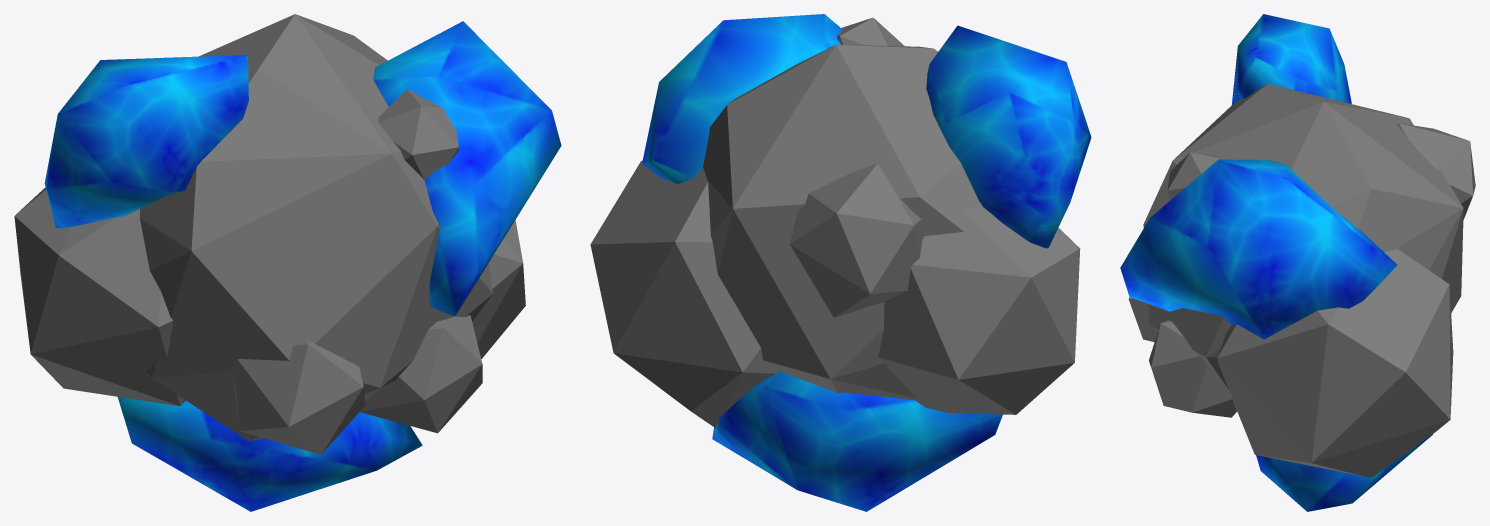
The model's file is windstoneSemioreLP.fbx.
3 renders of one model, left to right at view 1: azimuth 30°, elevation 25°; view 2: azimuth 150°, elevation 25°; view 3: azimuth 270°, elevation 25°, orthographic. The views are drawn at different scales.
Parts seen in each view (by area): view 1: StoneOre.014, WindstoneParticle.029; view 2: StoneOre.014, WindstoneParticle.029; view 3: StoneOre.014, WindstoneParticle.029.
Part boxes in pixels (x1=…): StoneOre.014: x1=14, y1=14, x2=525, y2=454; WindstoneParticle.029: x1=44, y1=21, x2=561, y2=511; StoneOre.014: x1=590, y1=17, x2=1080, y2=428; WindstoneParticle.029: x1=642, y1=14, x2=1091, y2=511; StoneOre.014: x1=1128, y1=83, x2=1475, y2=477; WindstoneParticle.029: x1=1120, y1=14, x2=1432, y2=511.
Size of the model in its own units: 274 by 256 by 216.
